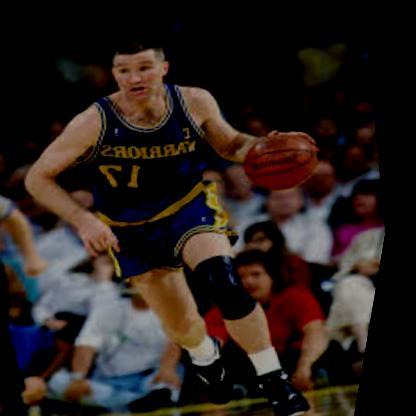basketball: (236, 112, 332, 194)
